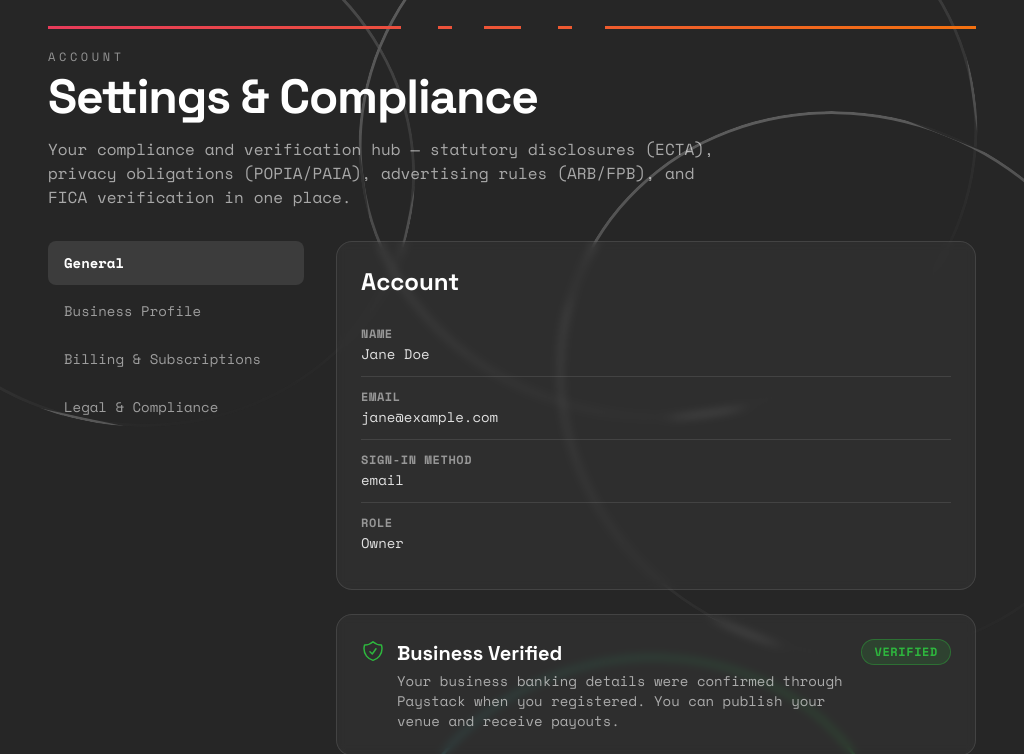
Test: Settings - Compliance & Verification Hub › shows the amber FICA pending badge when unverified
This screenshot has width=1024, height=754.
Click the button with test id "settings-tab-legal" at (176, 407), box [48,385,304,429]
(page scrolled)
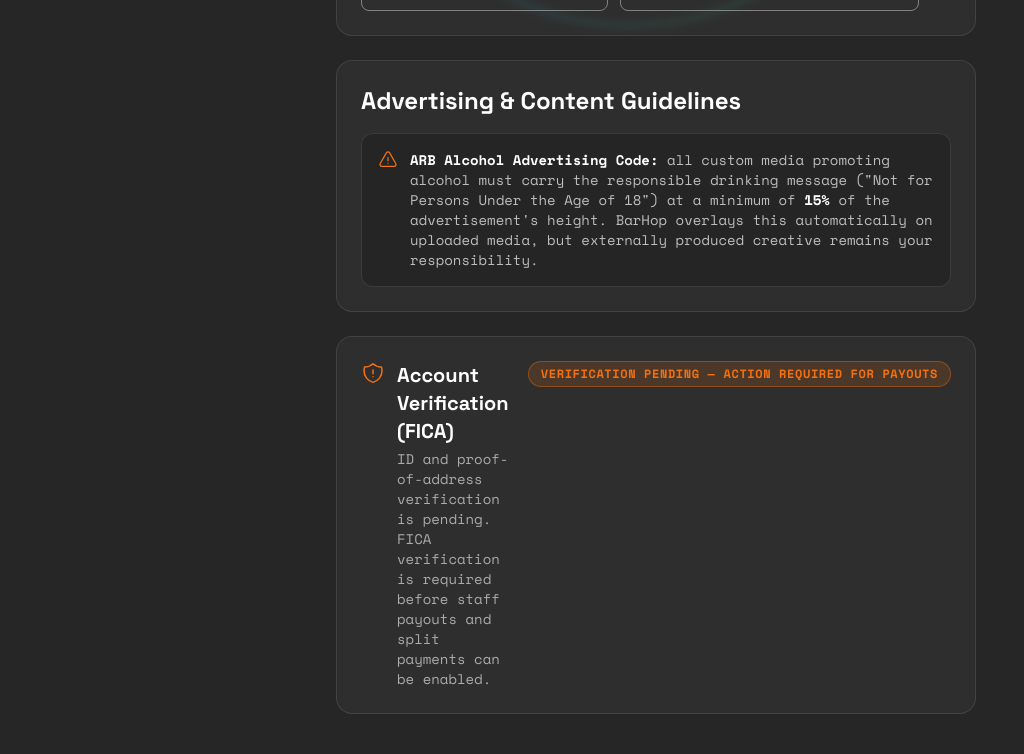
Now the text with test id "fica-badge-pending" reads "Verification Pending — Action Required for Payouts", box [541,365,938,382]
